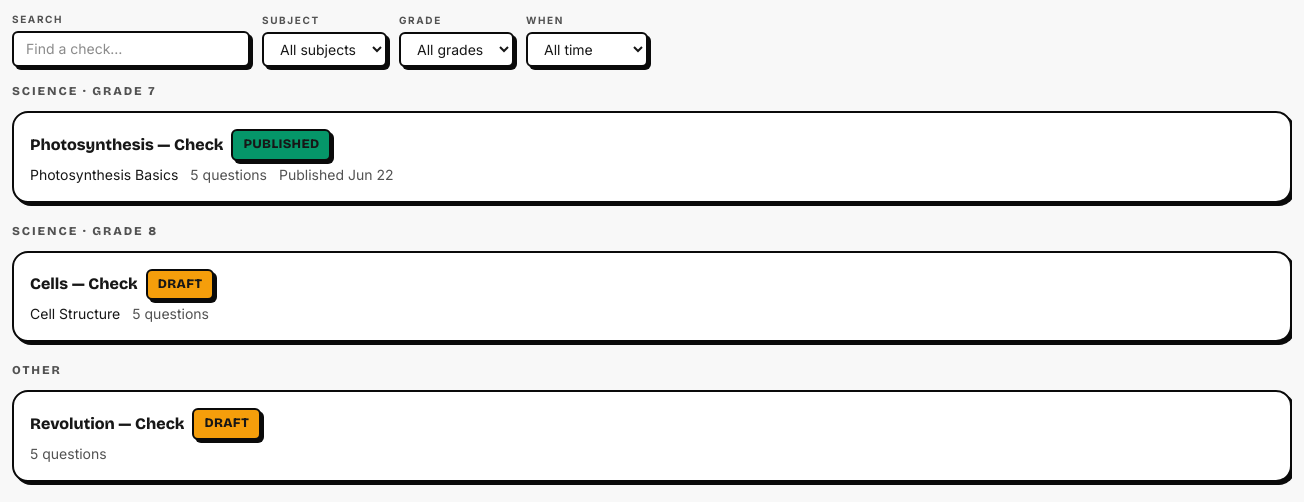
QuizLibrary › the search box narrows the list by title/lesson
The width and height of the screenshot is (1304, 502).
In the search field: (131, 49) [12,31,250,67], type "cells"
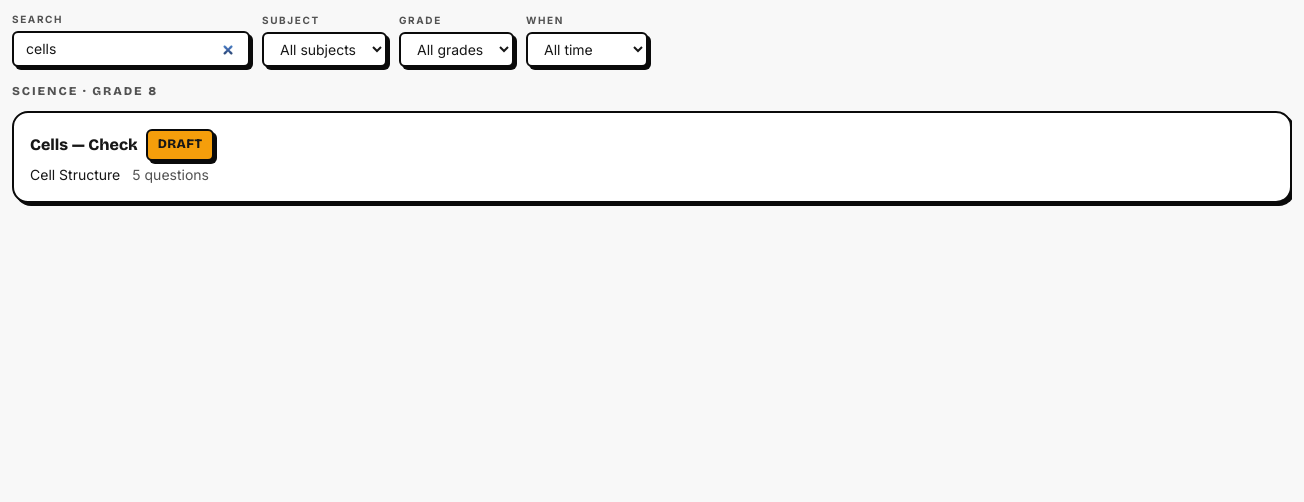
Check: the text "Cells — Check" is shown, box [30,133,138,157]
Check: the button "Photosynthesis — Check" is gone
